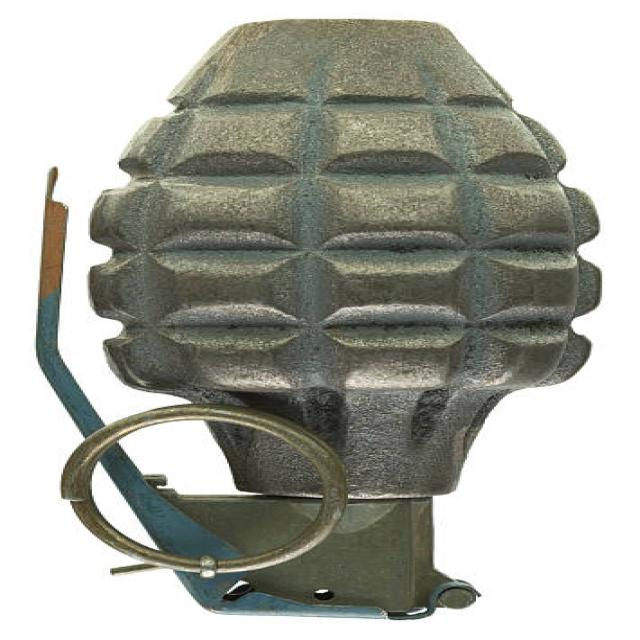grenade: (24, 10, 624, 627)
